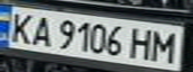0: (87, 20, 109, 55)
1: (72, 19, 93, 53)
6: (106, 24, 130, 57)
9: (51, 17, 78, 51)
A: (27, 14, 57, 47)
H: (127, 25, 157, 61)
K: (3, 9, 39, 45)
M: (148, 28, 184, 64)
